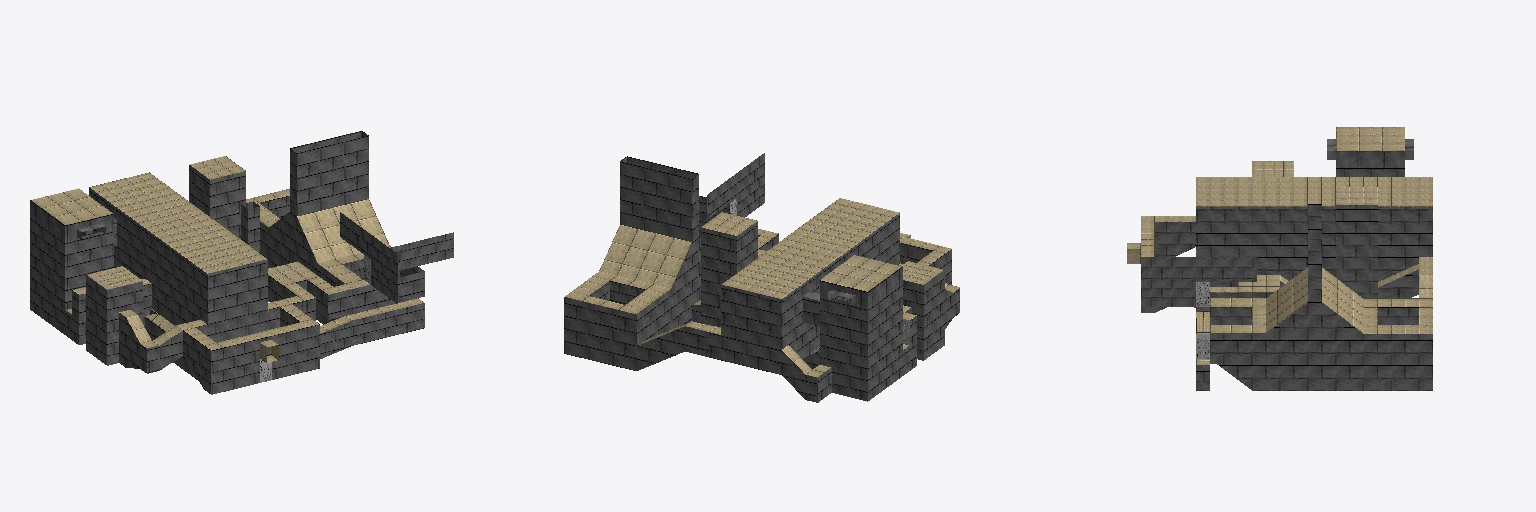
3 views of the same model, side by side, from view 1: azimuth 30°, elevation 25°; view 2: azimuth 150°, elevation 25°; view 3: azimuth 270°, elevation 25° (orthographic).
Parts seen in each view (by area): view 1: LevelIndices; view 2: LevelIndices; view 3: LevelIndices.
Part boxes in pixels (x1,y1,x2,y2): LevelIndices: (30, 131, 453, 394); LevelIndices: (564, 153, 959, 402); LevelIndices: (1127, 127, 1432, 390).
Size of the model in its own units: 3965 by 1839 by 3235.
Materials: 4 (4 with a texture image).